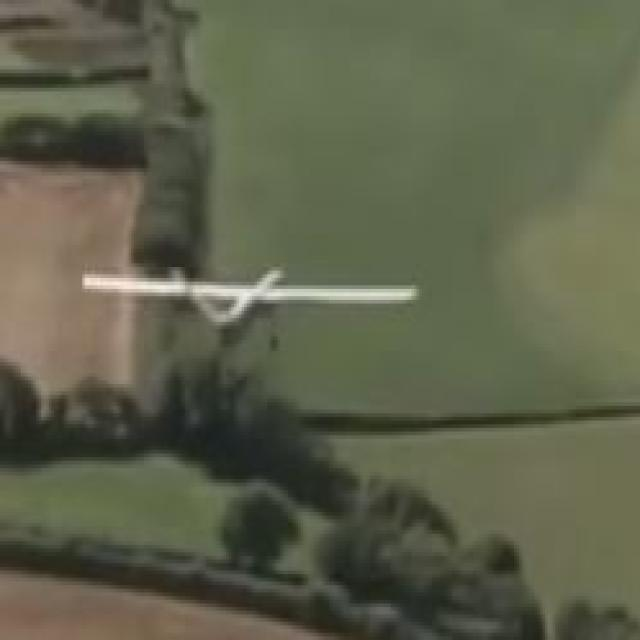iha: (83, 291, 424, 324)
